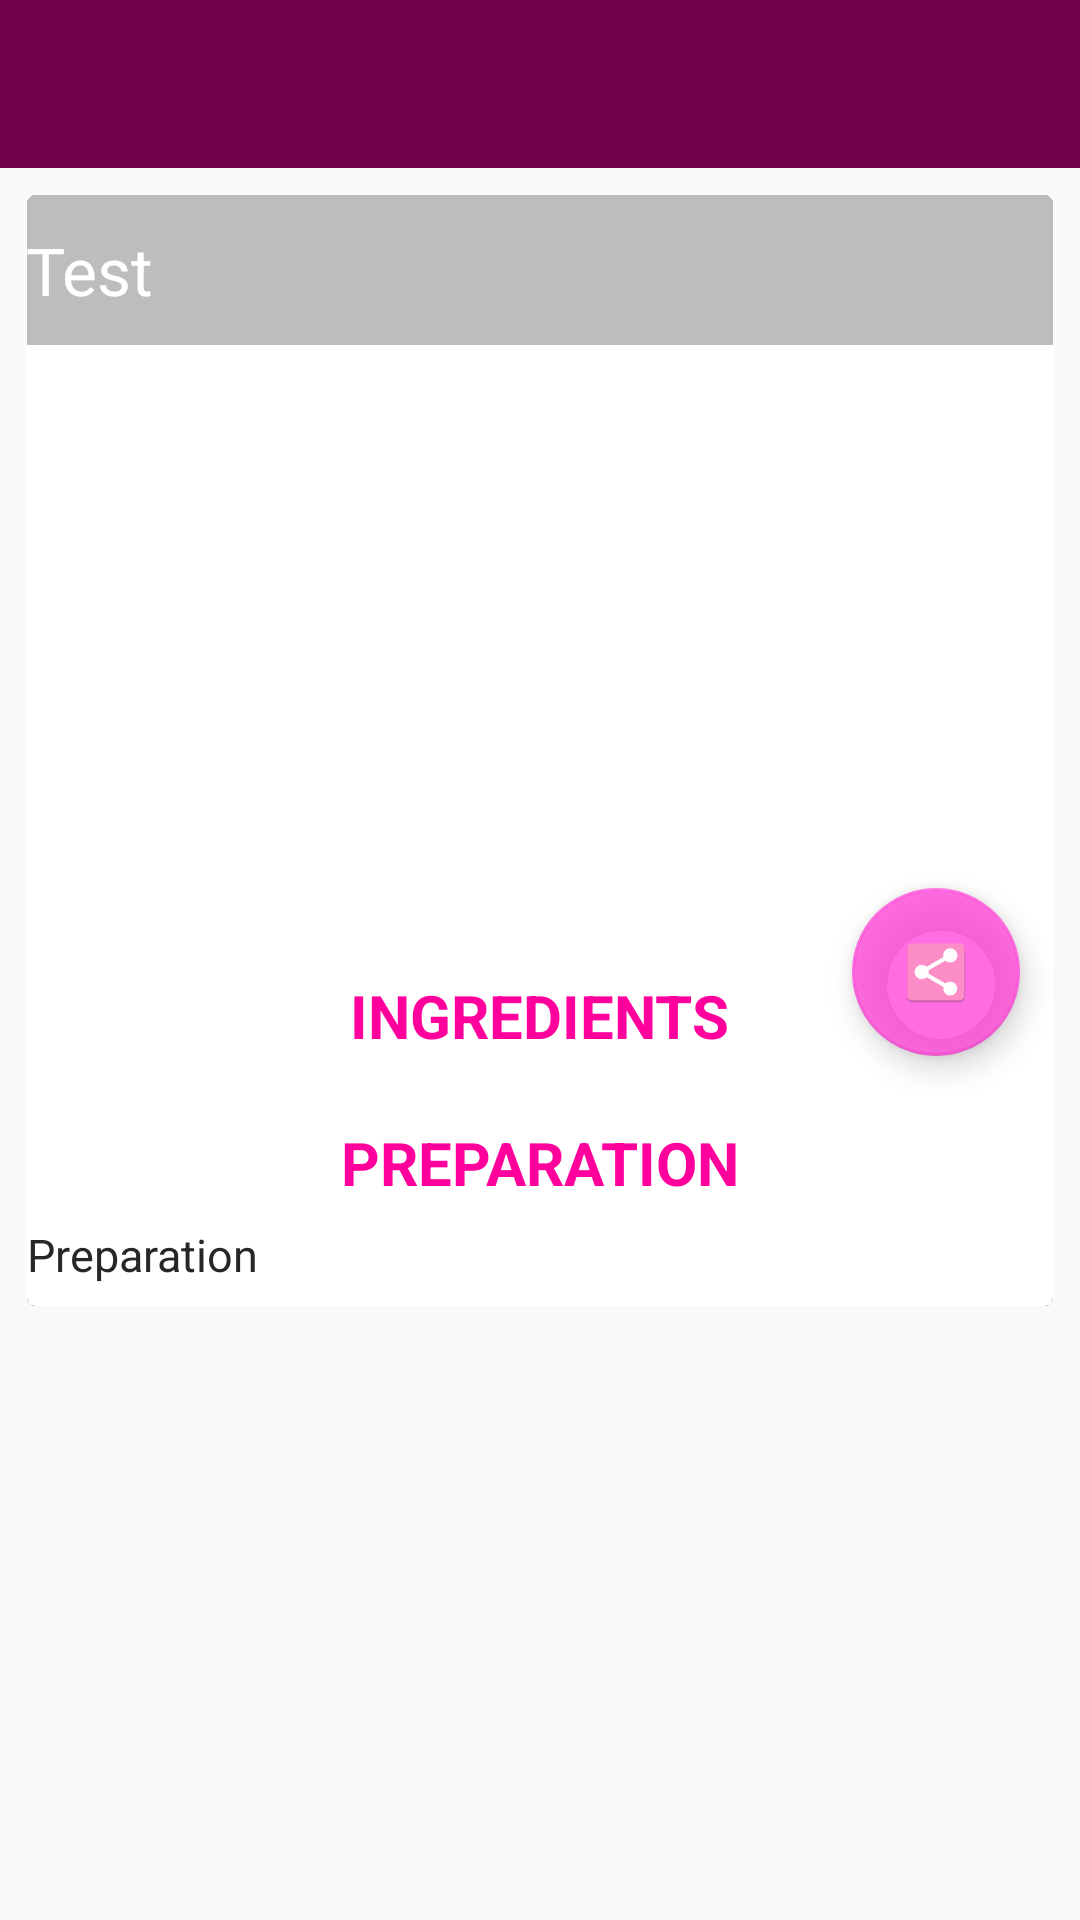

Screen size 1080 × 1920. Icon name, then its box in pixels as (x1, y1, x2, y2):
share: (852, 888, 1020, 1056)
